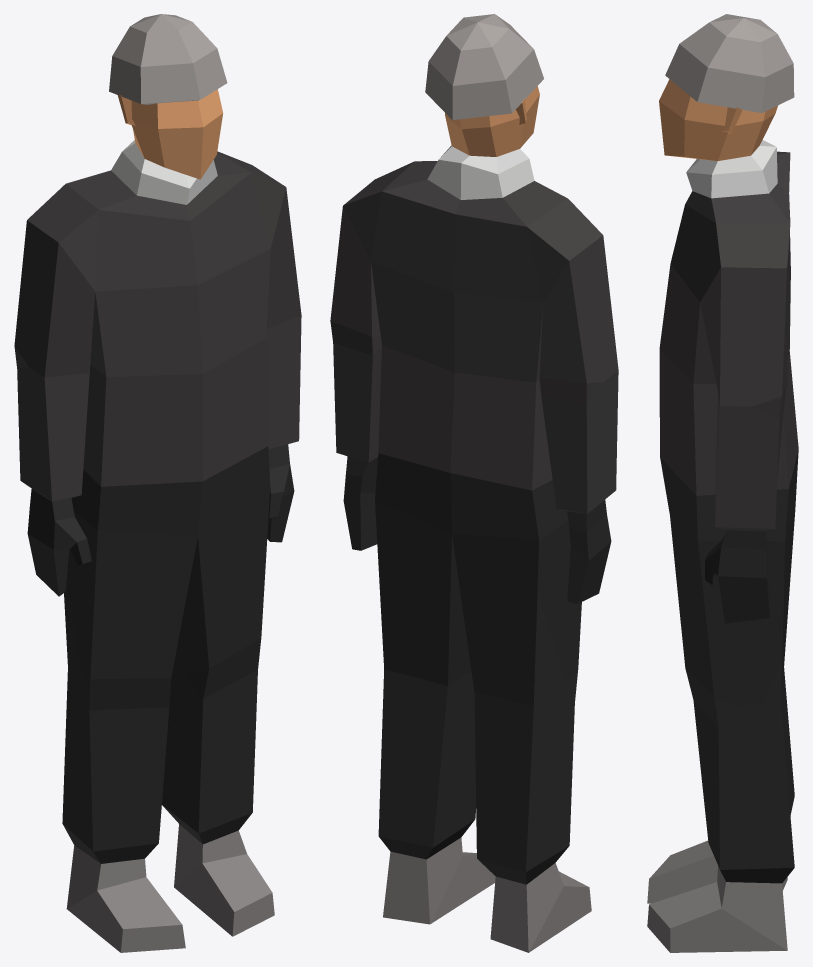
Rendered from people_man-winter.fbx.
3 renders of one model, left to right at view 1: azimuth 30°, elevation 25°; view 2: azimuth 150°, elevation 25°; view 3: azimuth 270°, elevation 25°, orthographic.
Parts seen in each view (by area): view 1: people_man_winter; view 2: people_man_winter; view 3: people_man_winter.
Boxes of the visible parts, left/top/right/bottom form: people_man_winter: left=14, top=14, right=301, bottom=952; people_man_winter: left=330, top=14, right=618, bottom=952; people_man_winter: left=647, top=14, right=798, bottom=952.
Bounding box in the file's own units: 60.18 × 200 × 30.58.
